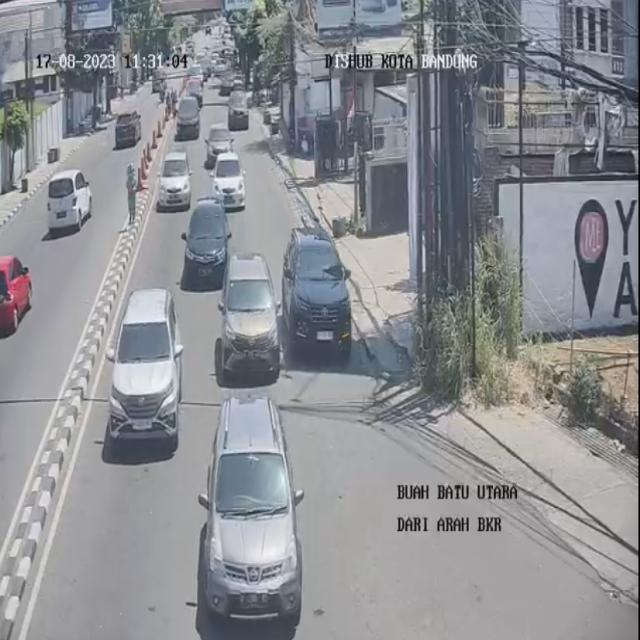cars: (207, 397, 304, 625), (106, 290, 182, 453), (283, 227, 352, 365), (219, 256, 278, 382), (186, 202, 228, 287), (159, 151, 191, 209), (214, 155, 246, 209), (208, 126, 233, 172), (176, 98, 199, 139), (228, 92, 250, 130), (184, 76, 205, 107), (221, 77, 234, 95)
